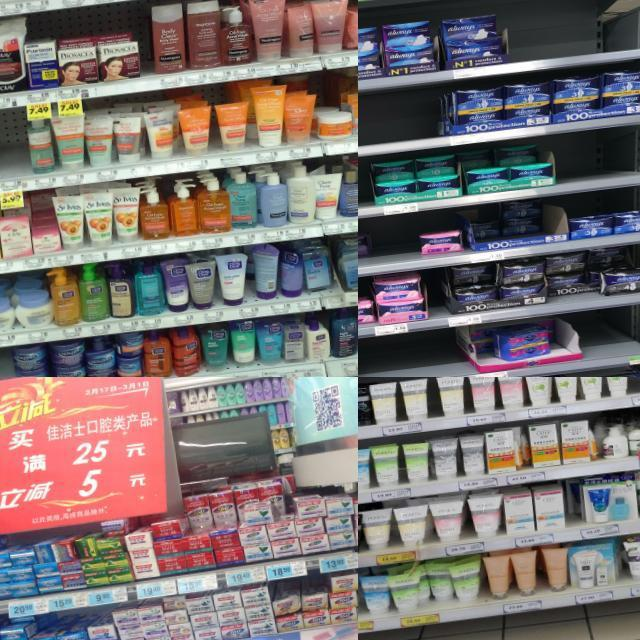empty: (506, 0, 605, 71), (358, 87, 438, 165), (552, 125, 640, 192), (358, 327, 456, 377), (576, 303, 640, 370), (370, 212, 422, 274), (0, 110, 32, 198)
